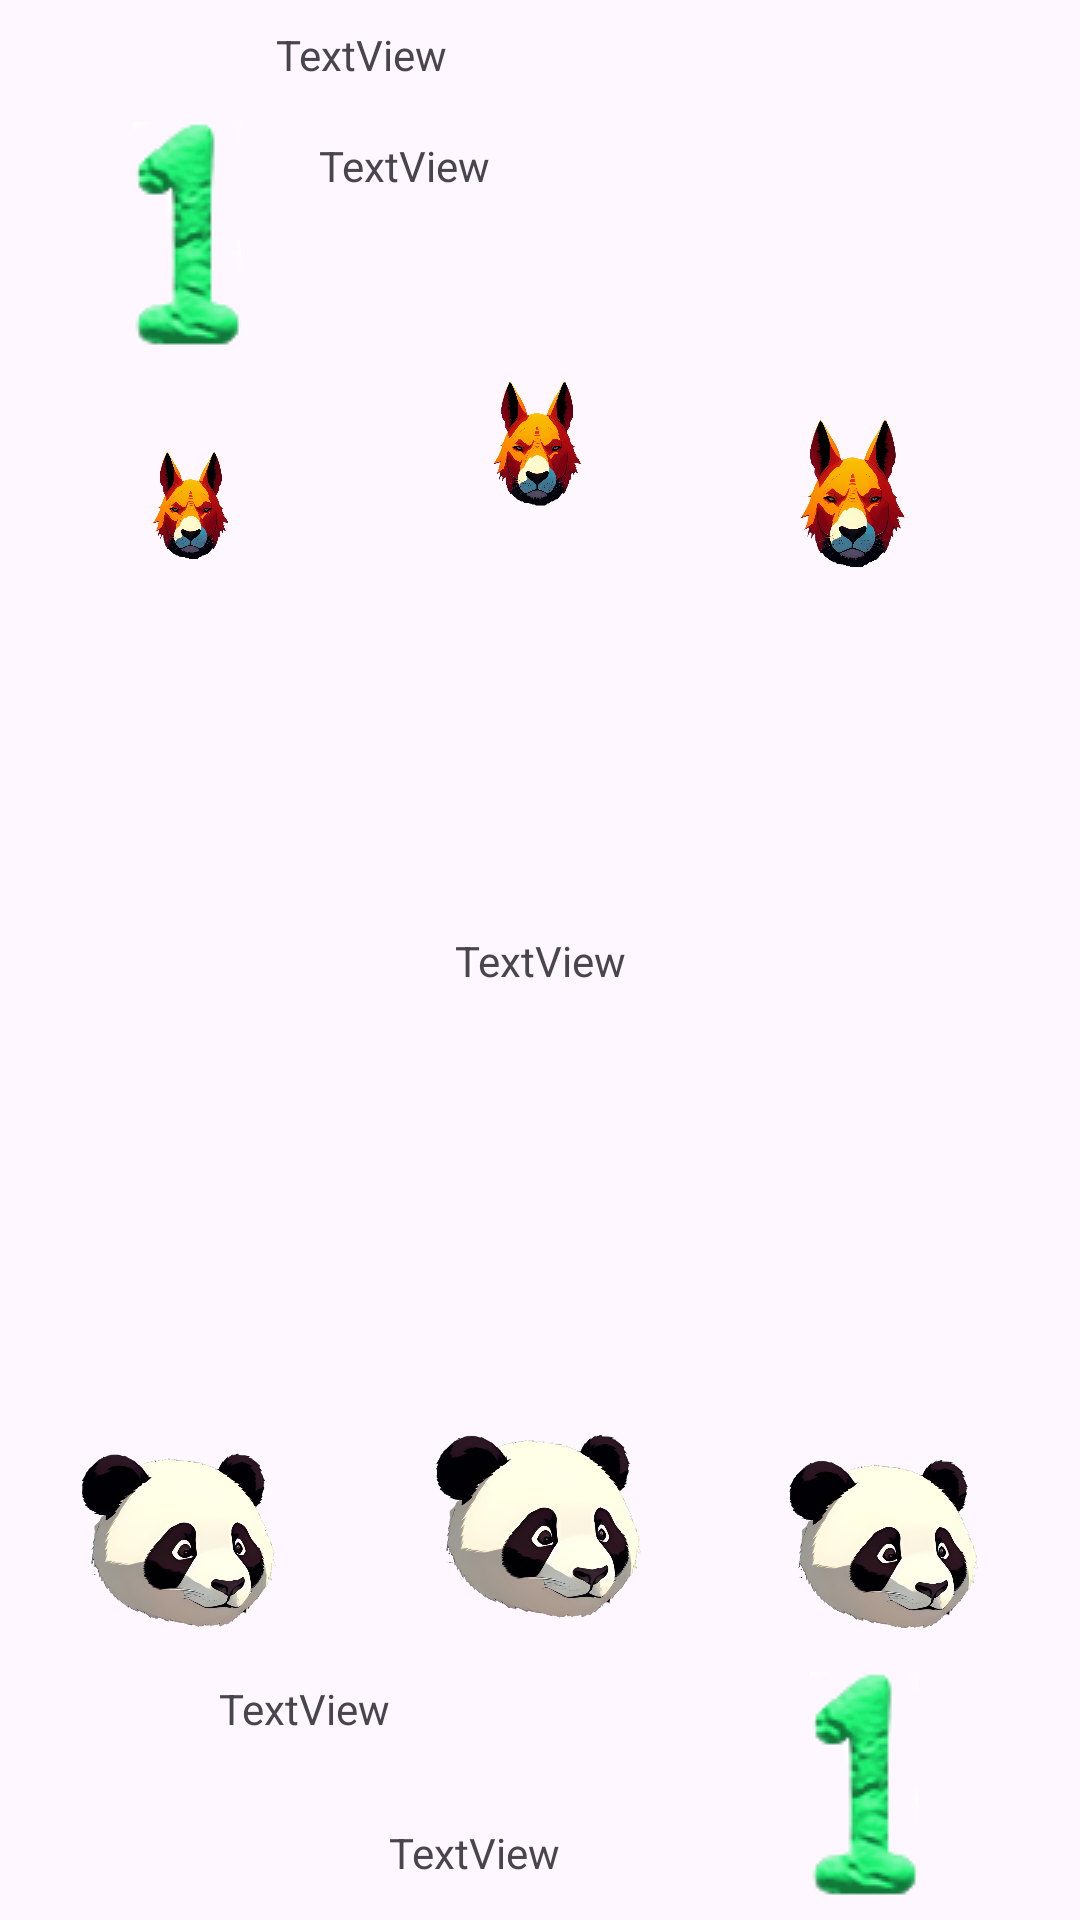

Icon click points for this 1080px x 1920px phone screenshot, format (x,y):
panda head: (538,1526), (179,1540), (883,1544)
wolf head: (537,444), (852,493), (190,505)
